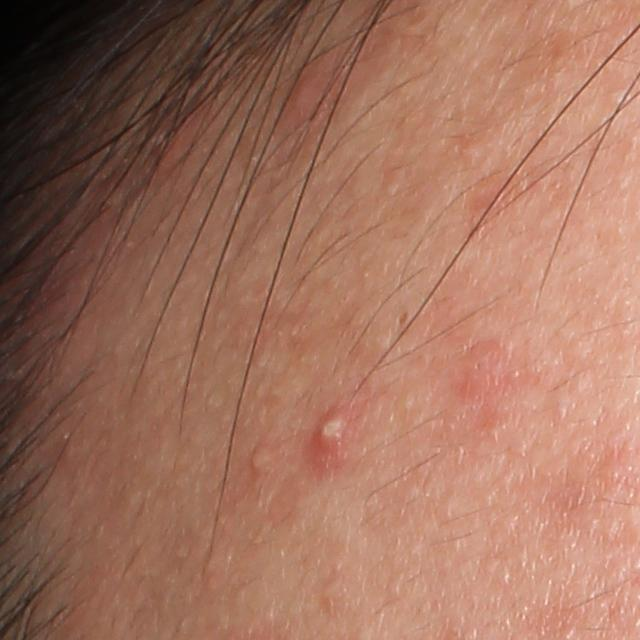papule: (279, 62, 329, 122)
pustule: (312, 402, 347, 450)
